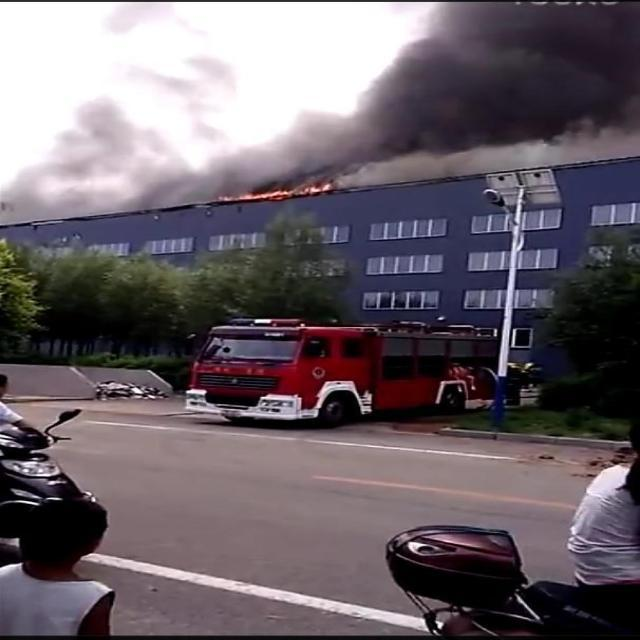Fire: (208, 184, 331, 202)
Smoke: (1, 3, 640, 227)
